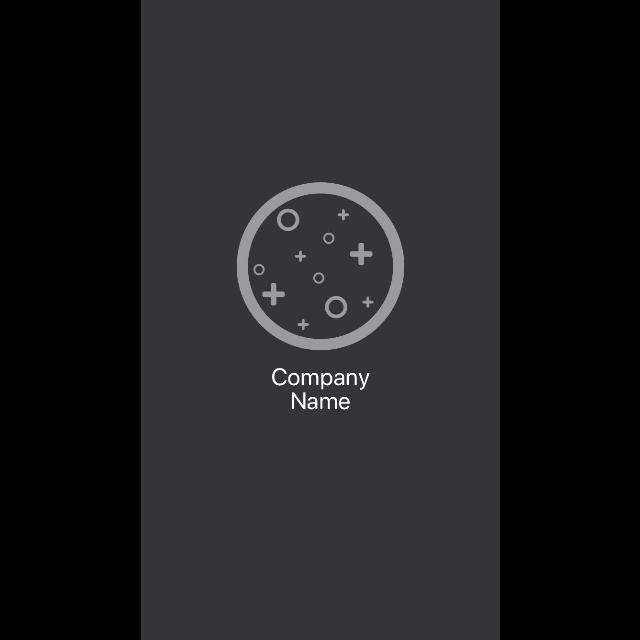image: (237, 182, 406, 352)
text: (270, 368, 372, 410)
